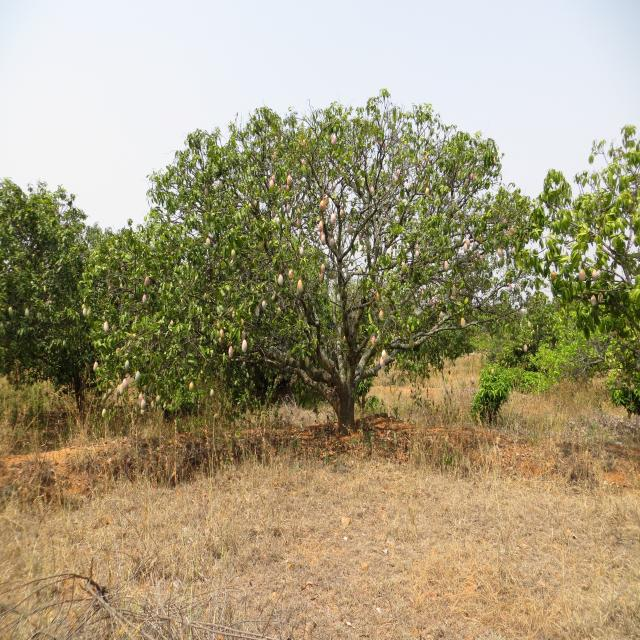Mango-Tree: (142, 124, 499, 418)
